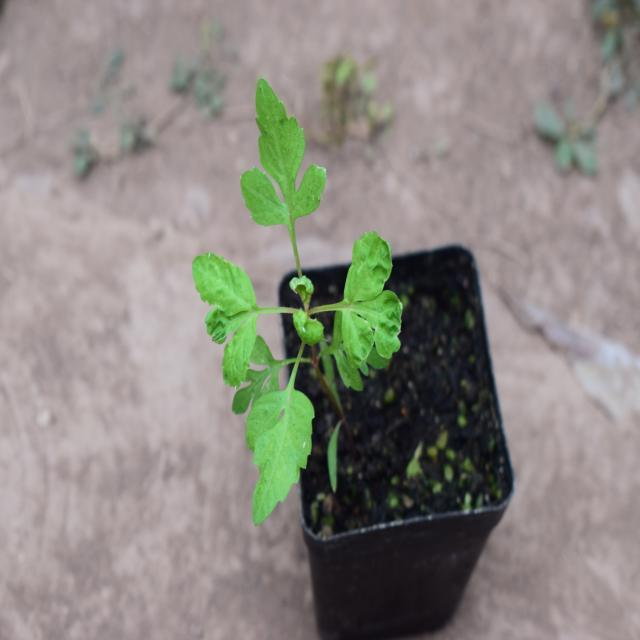Bidens pilosa: (169, 96, 405, 518)
